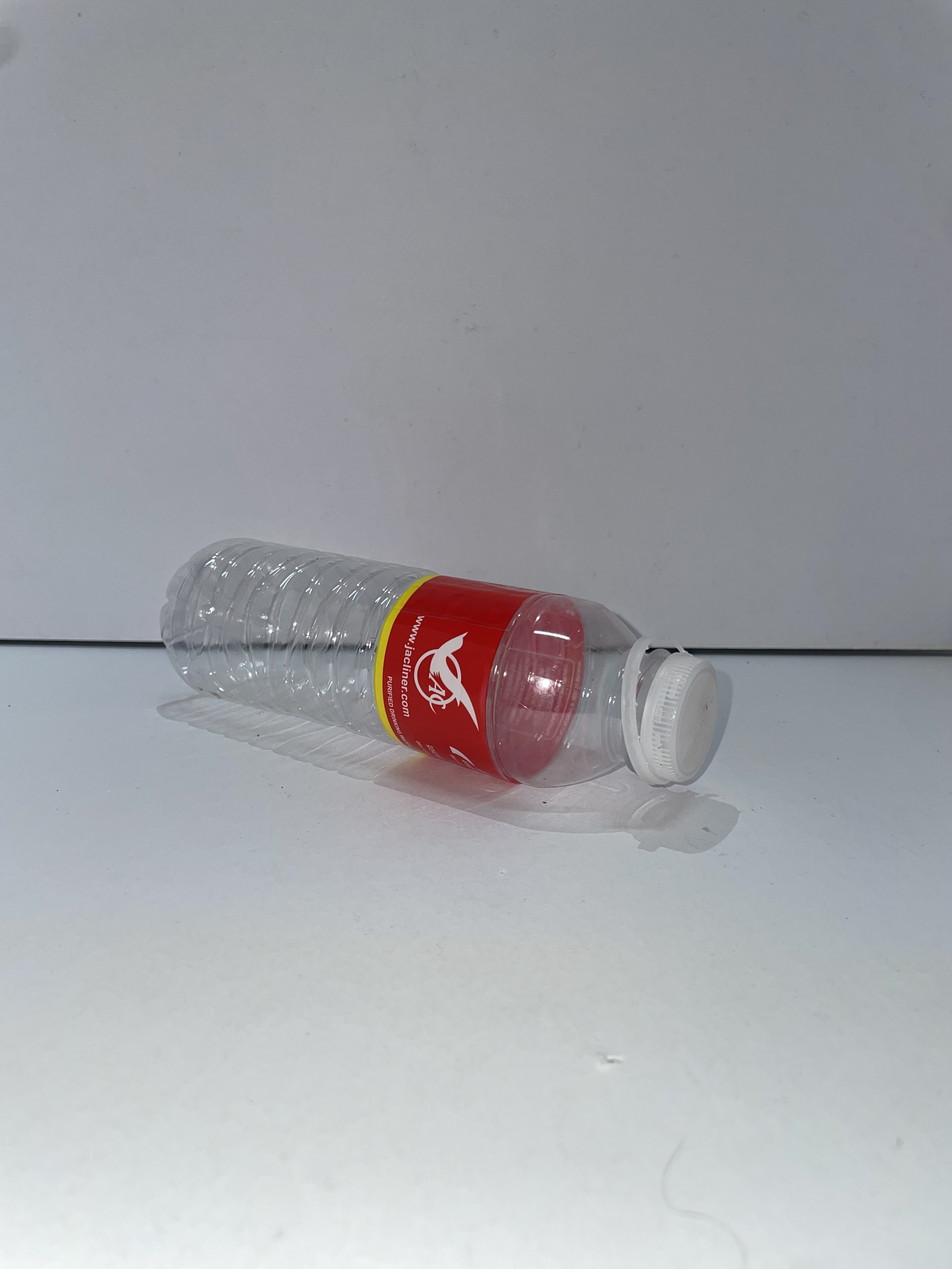Nature spring victory liner 330ml: (161, 539, 717, 786)
